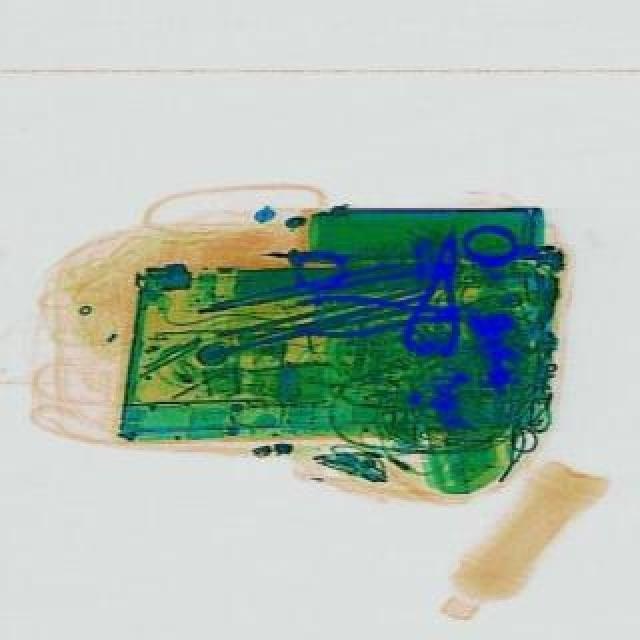wrench: (396, 218, 478, 358), (290, 288, 480, 340)
